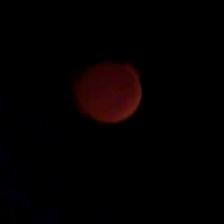infertile: (70, 56, 144, 126)
